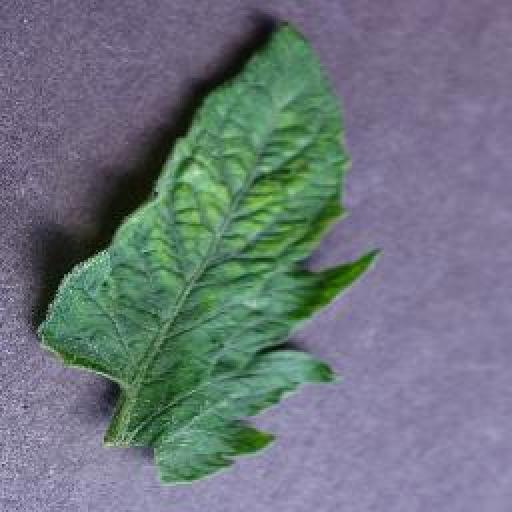Mosaic Virus: (36, 20, 382, 488)
